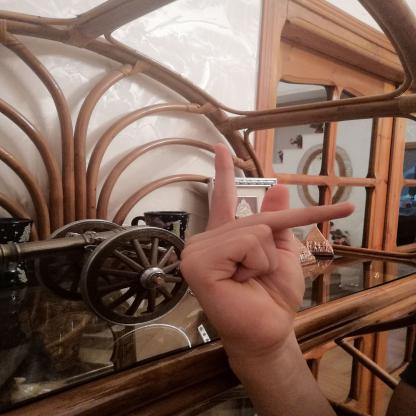DHAA: (164, 134, 368, 367)
